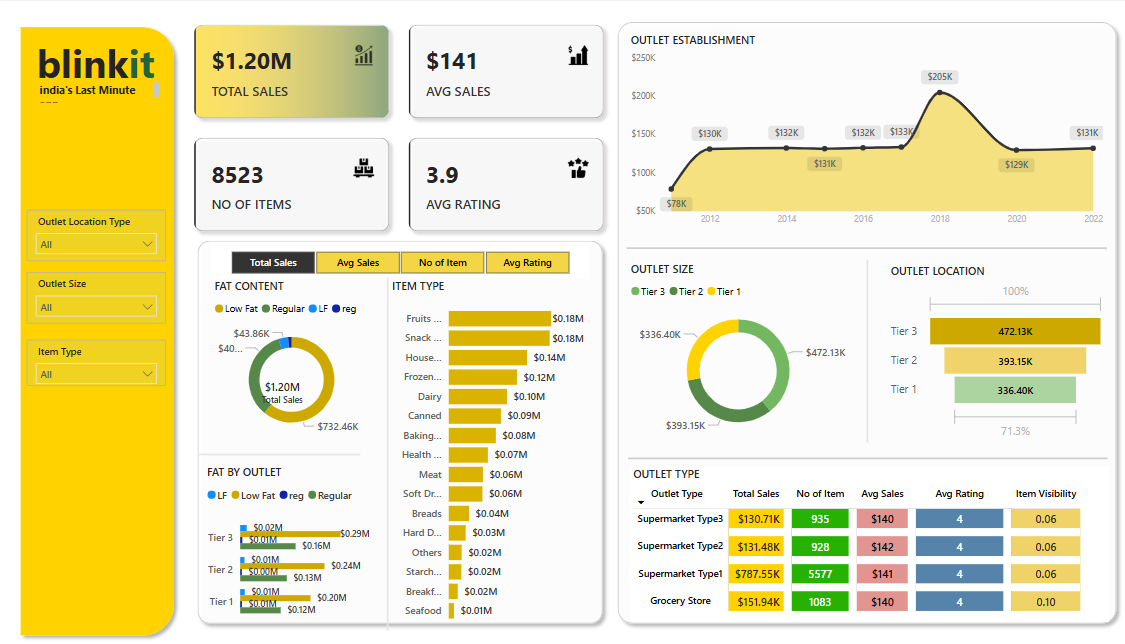

The page's visual inventory and layout, read from the dashboard file:
{"tool":"powerbi","page":{"name":"Page 1","canvas":[1400,800],"ordinal":0},"visuals":[{"type":"shape","box":[18,22.5,207.1,766.9],"z":0},{"type":"textbox","box":[37.5,39,166.6,75],"z":1000},{"type":"textbox","box":[46.5,96.1,157.6,34.5],"z":2000},{"type":"cardVisual","fields":{"Data":["BlinkIT Grocery Data.Total Sales","BlinkIT Grocery Data.Avg Sales","BlinkIT Grocery Data.No of Item","BlinkIT Grocery Data.Avg Rating"]},"box":[225.1,12,538.8,289.7],"z":3000},{"type":"shape","box":[237.1,286.7,516.3,489.3],"z":4000},{"type":"donutChart","title":"FAT CONTENT","fields":{"Y":["BlinkIT Grocery Data.Total Sales"],"Category":["BlinkIT Grocery Data.Item Fat Content"]},"box":[262,342,200,204],"z":5000},{"type":"slicer","fields":{"Values":["Metrics.Metrics"]},"box":[261.2,301.7,465.3,40.5],"z":6000},{"type":"cardVisual","fields":{"Data":["BlinkIT Grocery Data.Total Sales"]},"box":[289.7,445.8,121.6,70.5],"z":7000},{"type":"clusteredBarChart","title":"FAT BY OUTLET ","fields":{"Y":["BlinkIT Grocery Data.Total Sales"],"Category":["BlinkIT Grocery Data.Outlet Location Type"],"Series":["BlinkIT Grocery Data.Item Fat Content"]},"box":[252.1,570.3,210.1,205.6],"z":8000},{"type":"shape","box":[246.1,544.8,199.6,27],"z":9000},{"type":"shape","box":[445,340,70,435],"z":10000},{"type":"barChart","title":"ITEM TYPE","fields":{"Y":["BlinkIT Grocery Data.Total Sales"],"Category":["BlinkIT Grocery Data.Item Type"]},"box":[480.3,342.2,246.1,433.7],"z":11000},{"type":"shape","box":[753.3,16.7,631.7,758.3],"z":12000},{"type":"lineChart","title":"OUTLET ESTABLISHMENT","fields":{"Category":["BlinkIT Grocery Data.Outlet Establishment Year"],"Y":["BlinkIT Grocery Data.Total Sales"]},"box":[774.4,39,591.3,247.6],"z":13000},{"type":"shape","box":[774.4,286.7,591.3,36],"z":14000},{"type":"donutChart","title":"OUTLET SIZE","fields":{"Y":["BlinkIT Grocery Data.Total Sales"],"Category":["BlinkIT Grocery Data.Outlet Location Type"]},"box":[774.4,319.7,274.7,225.1],"z":15000},{"type":"shape","box":[1060,318.3,20,225],"z":16000},{"type":"funnel","title":"OUTLET LOCATION","fields":{"Category":["BlinkIT Grocery Data.Outlet Location Type"],"Y":["Sum(BlinkIT Grocery Data.Sales)"]},"box":[1093.3,323.3,273.3,221.7],"z":17000},{"type":"shape","box":[775,545,590,36.7],"z":18000},{"type":"pivotTable","title":"OUTLET TYPE","fields":{"Rows":["BlinkIT Grocery Data.Outlet Type"],"Values":["BlinkIT Grocery Data.Total Sales","BlinkIT Grocery Data.No of Item","BlinkIT Grocery Data.Avg Sales","BlinkIT Grocery Data.Avg Rating","Avg(BlinkIT Grocery Data.Item Visibility)"]},"box":[776.7,571.7,590,191.7],"z":19000},{"type":"slicer","fields":{"Values":["BlinkIT Grocery Data.Outlet Location Type"]},"box":[36,256.6,171.1,63],"z":19001},{"type":"slicer","fields":{"Values":["BlinkIT Grocery Data.Outlet Size"]},"box":[36,333.2,171.1,63],"z":19002},{"type":"slicer","fields":{"Values":["BlinkIT Grocery Data.Item Type"]},"box":[36,417.2,171.1,57],"z":19003}]}

Visuals, with their boxes in screenshot pixels (x1, y1, x2, y2), scaled from the page's 1400x800 canvas onto the 1125x644 screenshot:
shape: select_region(14, 18, 181, 635)
textbox: select_region(30, 31, 164, 92)
textbox: select_region(37, 77, 164, 105)
cardVisual - BlinkIT Grocery Data.Total Sales x BlinkIT Grocery Data.Avg Sales: select_region(181, 10, 614, 243)
shape: select_region(191, 231, 605, 625)
"FAT CONTENT" donutChart: select_region(211, 275, 371, 440)
slicer - Metrics.Metrics: select_region(210, 243, 584, 275)
cardVisual - BlinkIT Grocery Data.Total Sales: select_region(233, 359, 331, 416)
"FAT BY OUTLET " clusteredBarChart: select_region(203, 459, 371, 625)
shape: select_region(198, 439, 358, 460)
shape: select_region(358, 274, 414, 624)
"ITEM TYPE" barChart: select_region(386, 275, 584, 625)
shape: select_region(605, 13, 1113, 624)
"OUTLET ESTABLISHMENT" lineChart: select_region(622, 31, 1097, 231)
shape: select_region(622, 231, 1097, 260)
"OUTLET SIZE" donutChart: select_region(622, 257, 843, 439)
shape: select_region(852, 256, 868, 437)
"OUTLET LOCATION" funnel: select_region(879, 260, 1098, 439)
shape: select_region(623, 439, 1097, 468)
"OUTLET TYPE" pivotTable: select_region(624, 460, 1098, 615)
slicer - BlinkIT Grocery Data.Outlet Location Type: select_region(29, 207, 166, 257)
slicer - BlinkIT Grocery Data.Outlet Size: select_region(29, 268, 166, 319)
slicer - BlinkIT Grocery Data.Item Type: select_region(29, 336, 166, 382)
